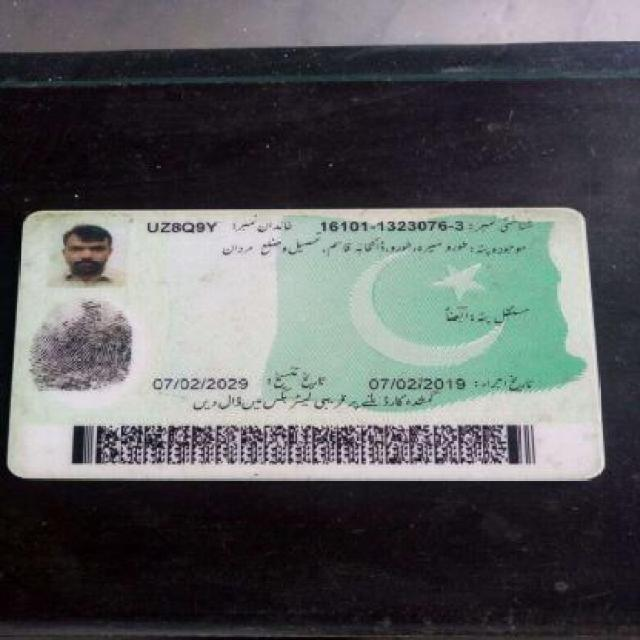Back: (8, 205, 606, 484)
